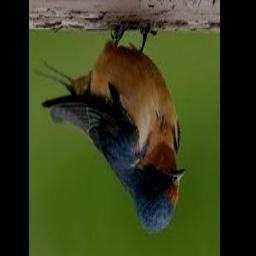Swallow: (34, 28, 185, 234)
